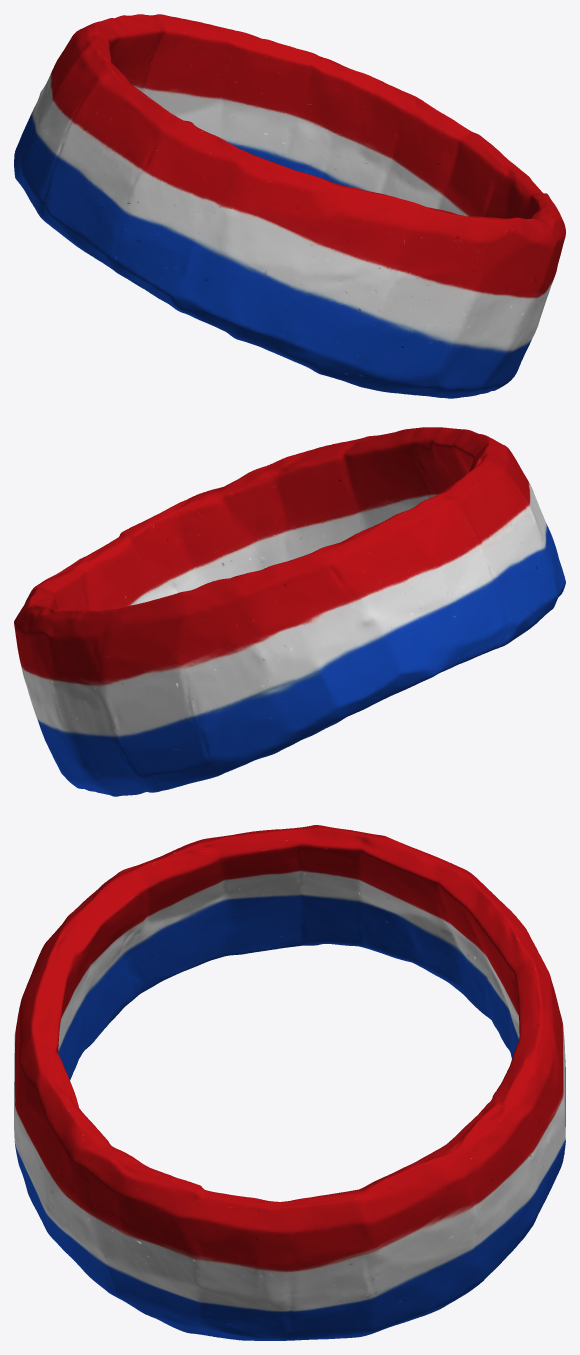
Rendered from headband.glb.
The picture shows the model from 3 angles, top to bottom: view 1: azimuth 30°, elevation 25°; view 2: azimuth 150°, elevation 25°; view 3: azimuth 270°, elevation 25°; orthographic projection. The views are drawn at different scales.
Parts seen in each view (by area): view 1: world; view 2: world; view 3: world.
Boxes of the visible parts, x1,y1,x2,y2 form: world: (14,14,565,398); world: (14,427,565,796); world: (14,825,565,1340).
Size of the model in its own units: 1 by 0.687 by 0.9905.
Materials: 1 (1 with a texture image).
